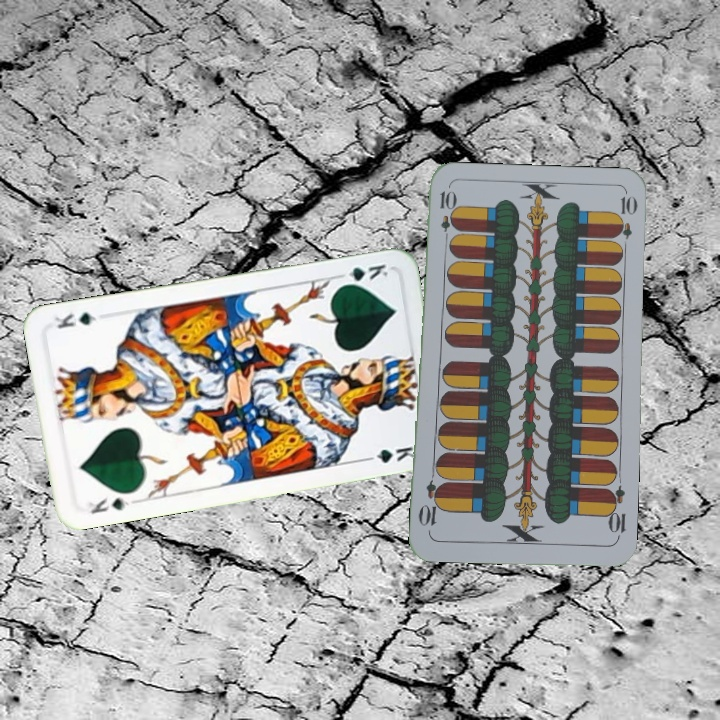E10: (602, 483, 628, 542), (436, 187, 454, 246)
GK: (333, 260, 391, 289), (84, 493, 138, 516)
